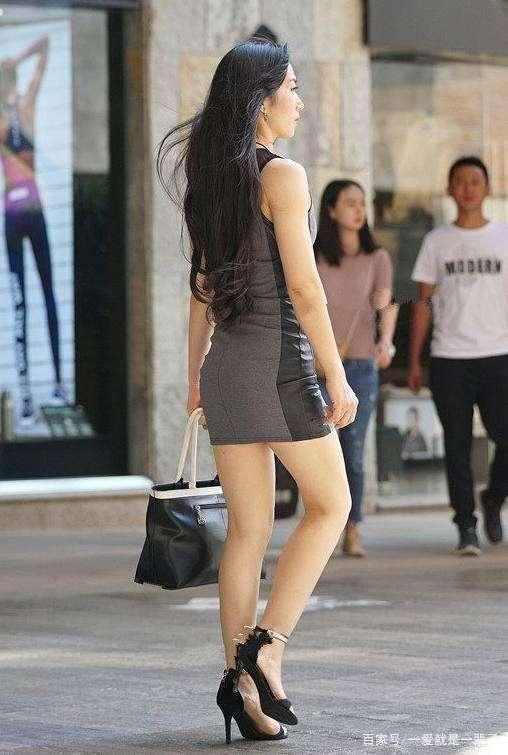person: (170, 21, 343, 728)
